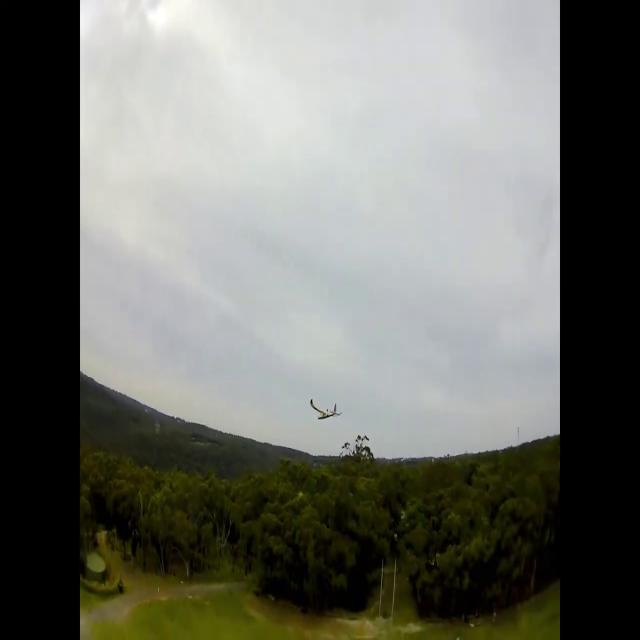iha: (310, 398, 342, 421)
